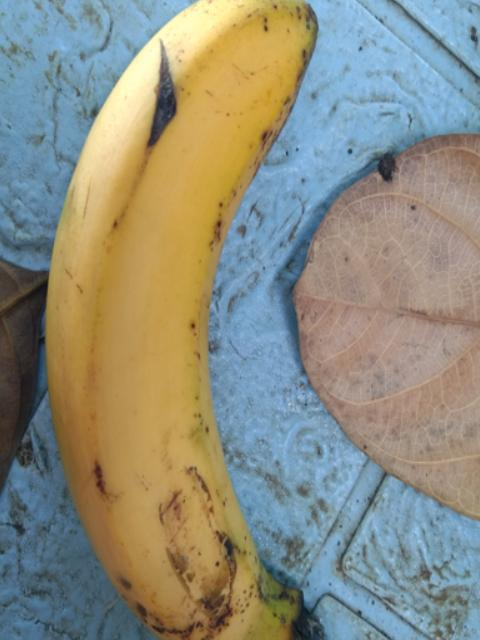ripe: (31, 7, 338, 624)
